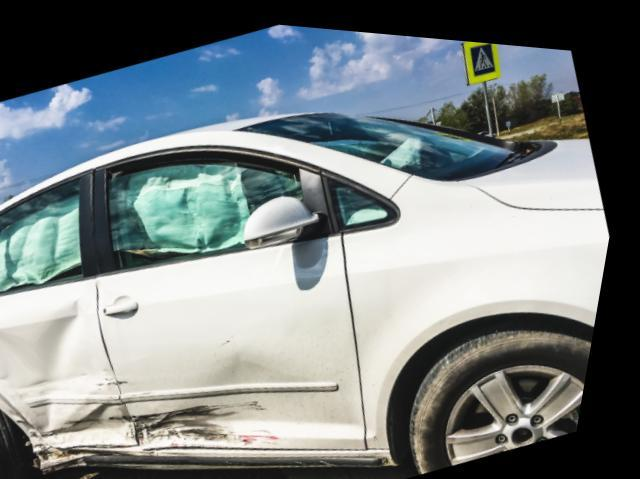dent: (0, 298, 141, 446), (152, 350, 301, 438), (0, 378, 43, 433)
tire flat: (0, 398, 51, 479)
